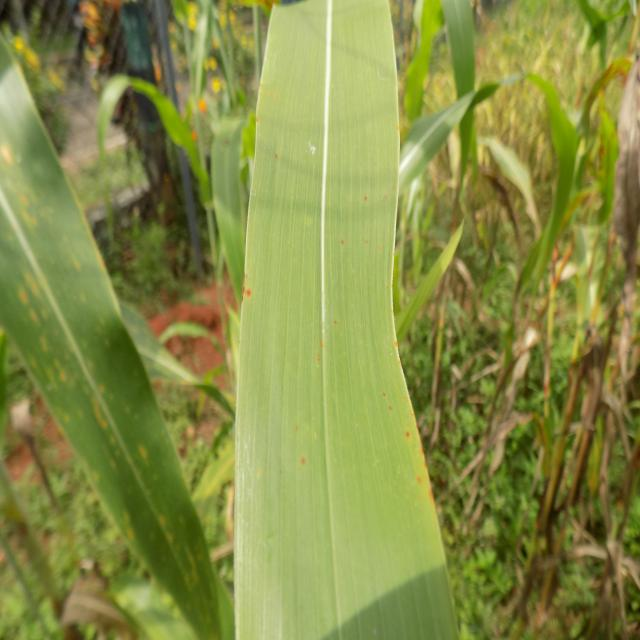millet_healthy: (234, 0, 464, 640)
